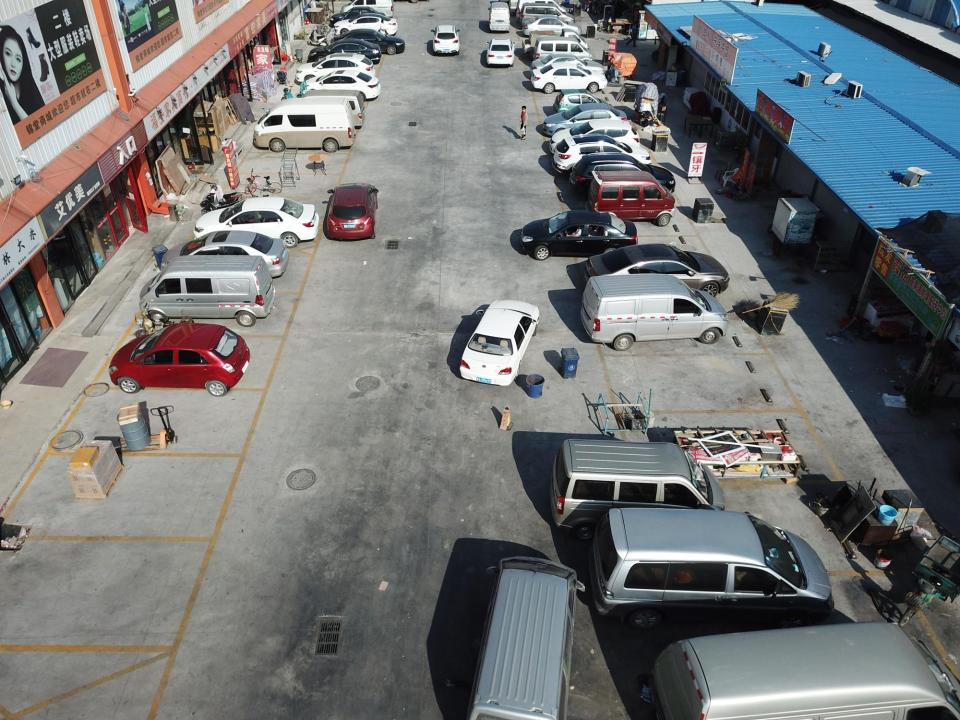car: (102, 325, 252, 398), (455, 300, 542, 389), (584, 246, 731, 298), (192, 196, 321, 250), (517, 207, 639, 262), (158, 229, 288, 278), (568, 152, 678, 199), (551, 133, 651, 172), (548, 119, 648, 158), (318, 182, 382, 241), (544, 101, 630, 134), (301, 68, 381, 100), (294, 51, 374, 83), (529, 63, 609, 93), (306, 39, 382, 66), (330, 28, 404, 55), (331, 12, 399, 39), (532, 55, 604, 77), (522, 16, 582, 38), (428, 24, 460, 55), (329, 7, 386, 24), (484, 36, 515, 67)
truck: (522, 28, 590, 54)
van: (653, 619, 958, 720), (594, 508, 840, 626), (472, 554, 586, 718), (554, 438, 734, 537), (582, 275, 727, 350), (133, 258, 278, 326), (252, 98, 357, 152), (583, 171, 677, 230), (272, 87, 364, 130), (534, 35, 594, 65), (519, 2, 575, 27), (340, 0, 396, 18)
